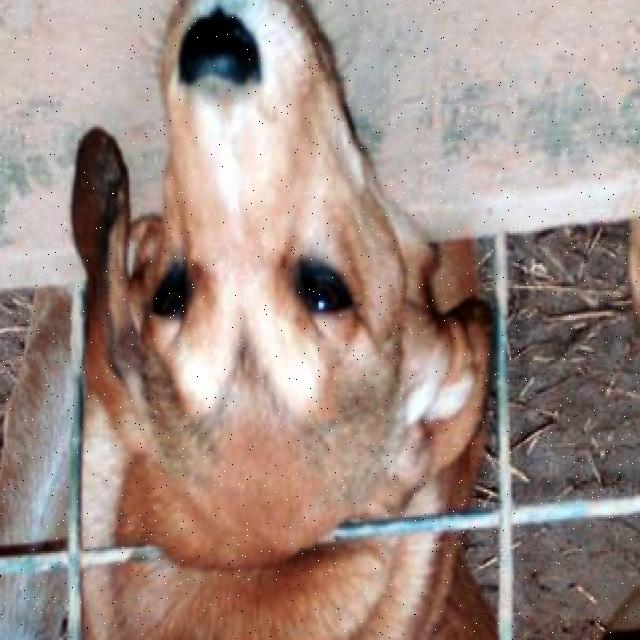Dog: (53, 0, 484, 581)
